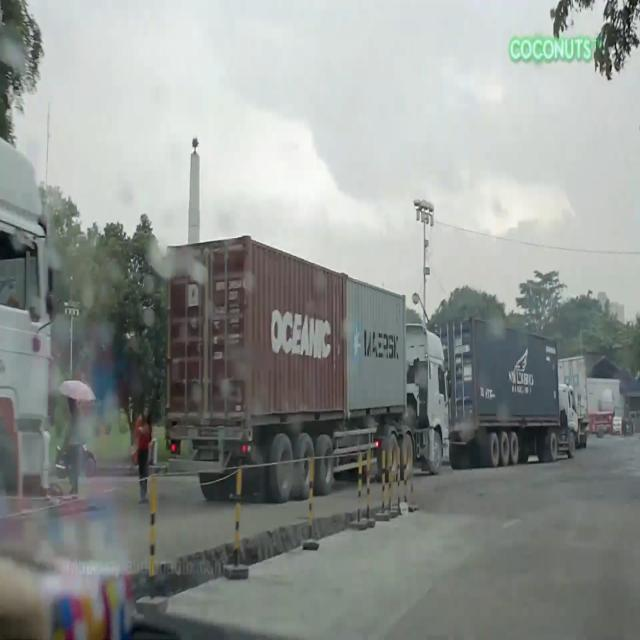truck: (164, 237, 450, 502), (430, 318, 580, 466), (0, 129, 51, 519), (557, 356, 590, 449)
